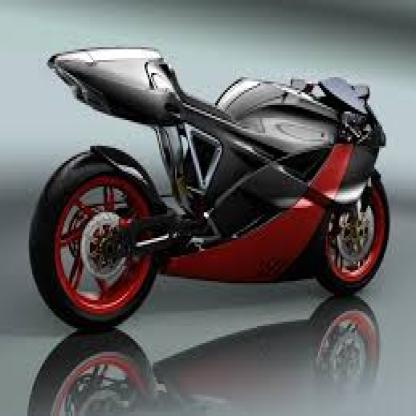bike: (30, 45, 392, 323)
